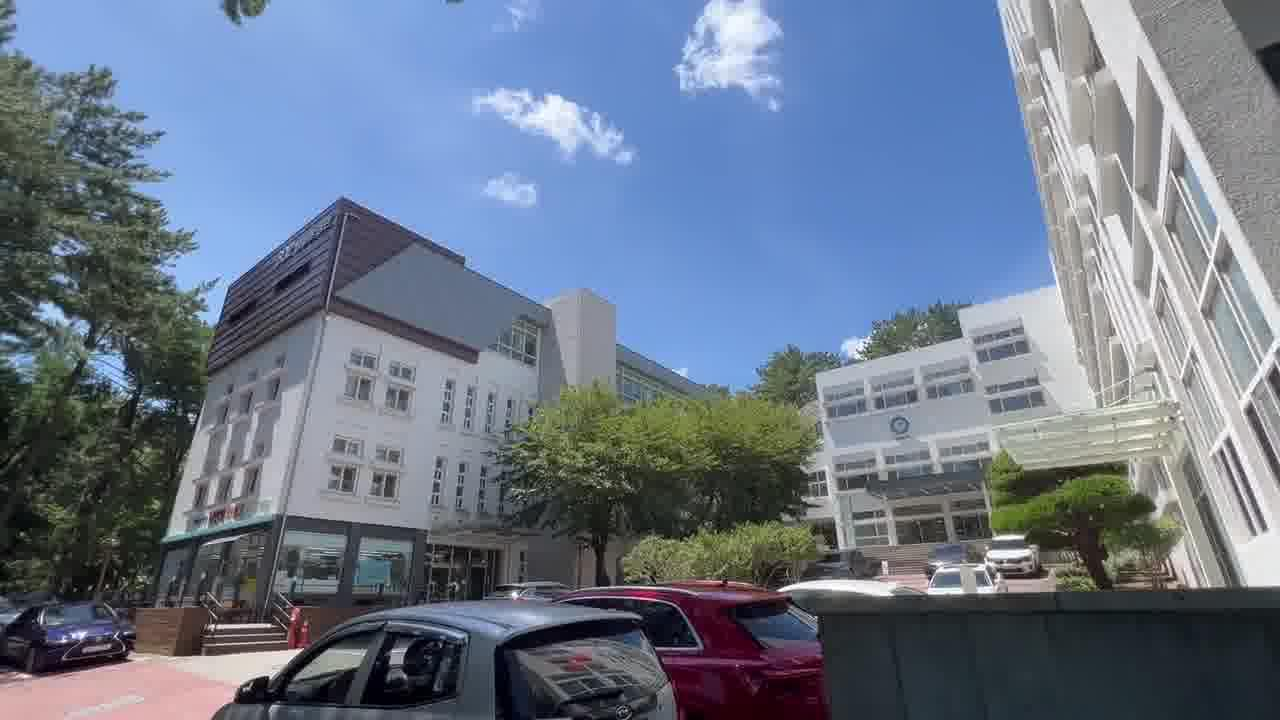building: (1010, 8, 1280, 547), (181, 173, 467, 578), (819, 355, 1155, 542)
